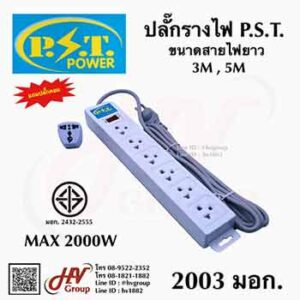Three_eye_plug: (83, 99, 246, 252)
